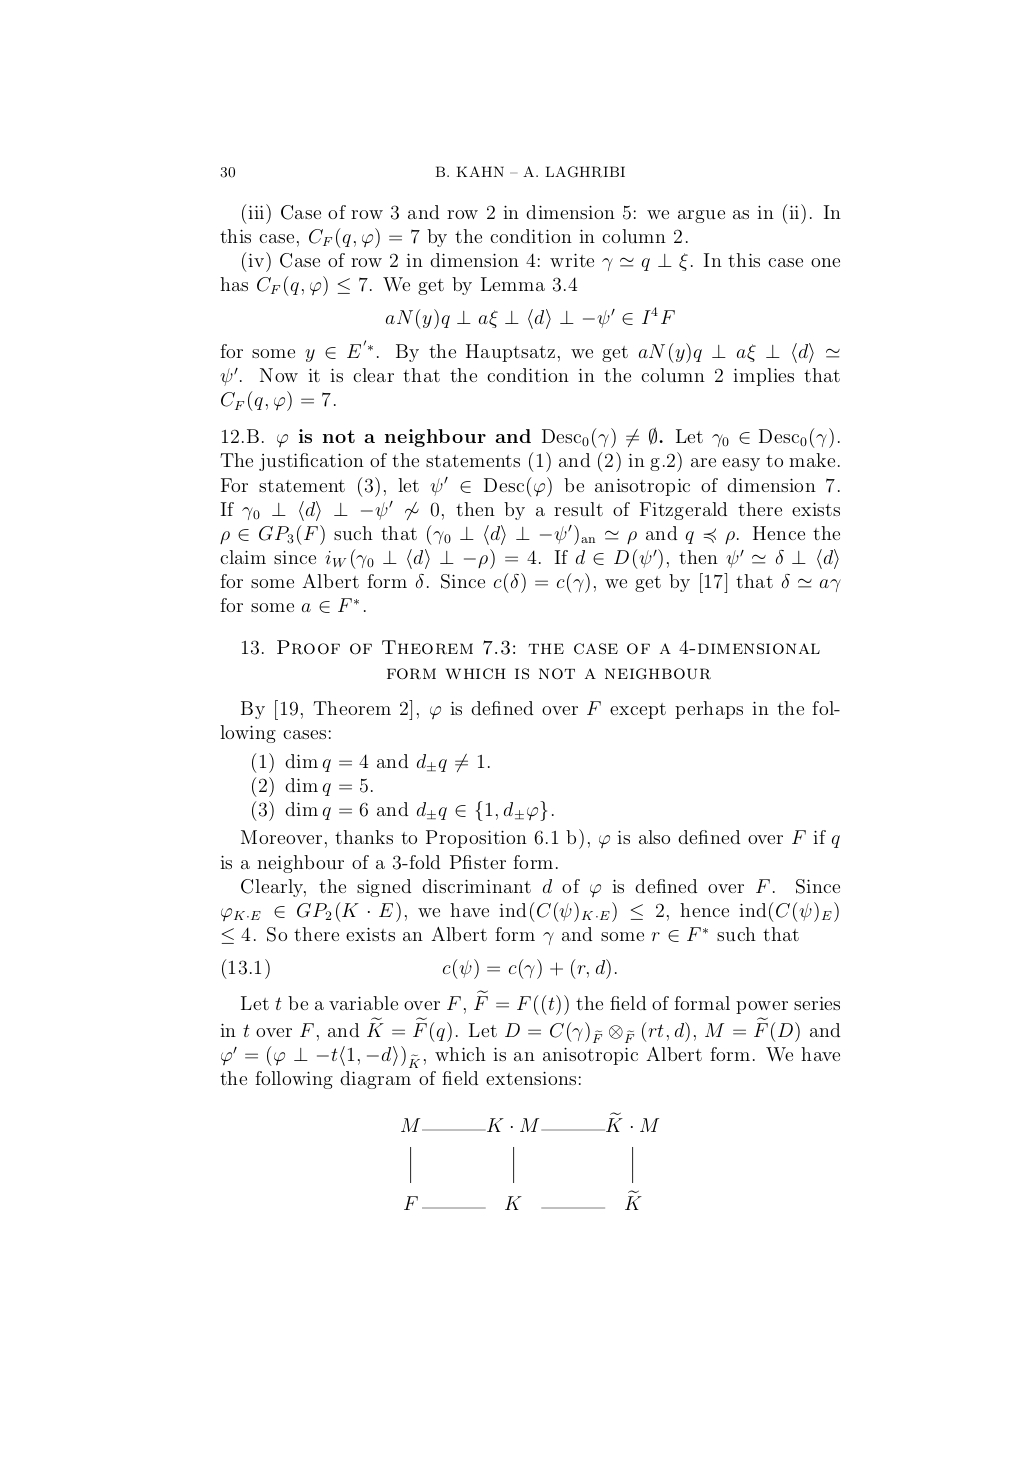figure: (401, 1112, 659, 1209)
formula: (222, 958, 616, 979), (385, 306, 674, 329), (252, 800, 553, 821), (252, 752, 489, 773), (252, 776, 372, 798)
